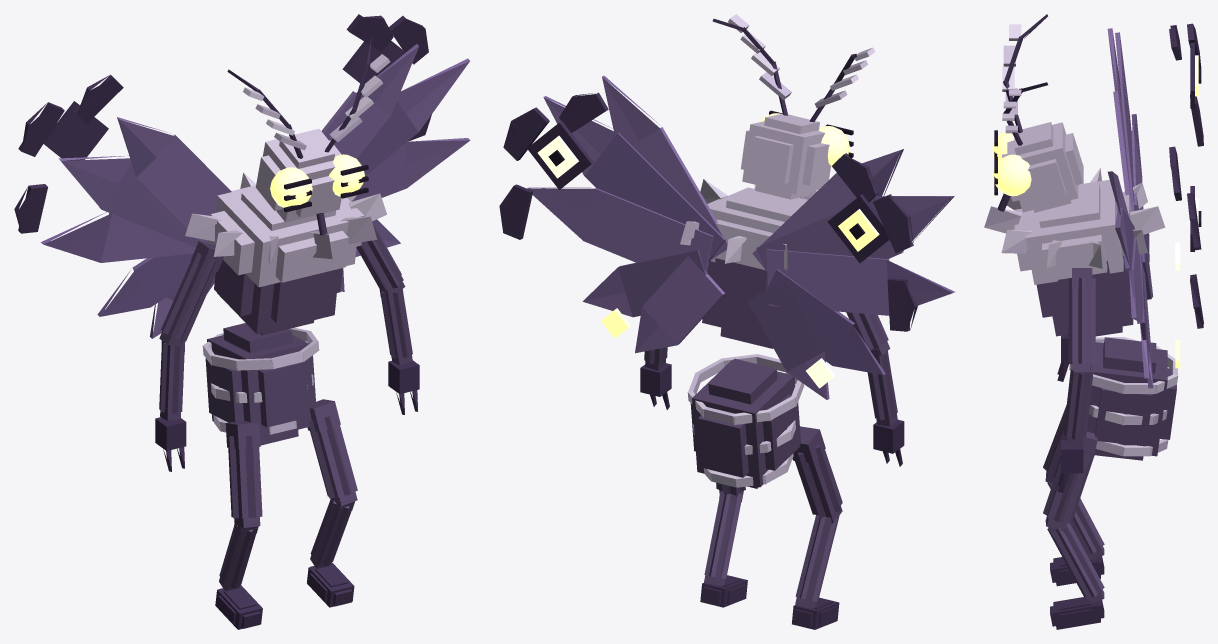
The picture shows the model from 3 angles, left to right: view 1: azimuth 30°, elevation 25°; view 2: azimuth 150°, elevation 25°; view 3: azimuth 270°, elevation 25°; orthographic projection. The views are drawn at different scales.
Parts seen in each view (by area): view 1: HexMoth; view 2: HexMoth; view 3: HexMoth.
Boxes of the visible parts, x1,y1,x2,y2 form: HexMoth: [14, 14, 470, 629]; HexMoth: [499, 14, 954, 629]; HexMoth: [984, 14, 1203, 629].
Size of the model in its own units: 1.1 by 1.4 by 0.5012.
